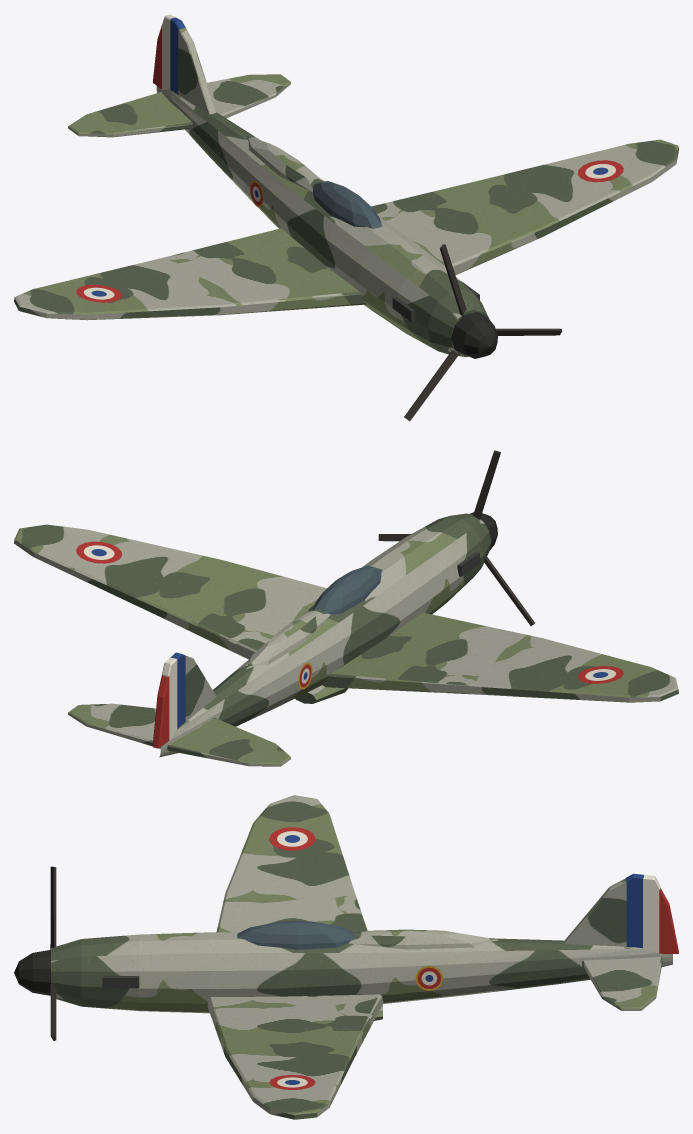
Rendered from fighter.glb.
The picture shows the model from 3 angles, top to bottom: view 1: azimuth 30°, elevation 25°; view 2: azimuth 150°, elevation 25°; view 3: azimuth 270°, elevation 25°; orthographic projection.
Parts seen in each view (by area): view 1: fuselage_coque, aile_droite, aile_gauche, stabilisateur_droit, stabilisateur_gauche, verriere, derive, prop_cone, dos, cocarde_aile_gauche, gouvernail_bleu, prop_pale_2_lame (+2 smaller); view 2: aile_droite, fuselage_coque, aile_gauche, stabilisateur_droit, stabilisateur_gauche, verriere, dos, derive, gouvernail_rouge, cocarde_aile_gauche, gouvernail_blanc, gouvernail_bleu (+4 smaller); view 3: fuselage_coque, aile_gauche, aile_droite, stabilisateur_gauche, verriere, derive, dos, prop_cone, gouvernail_blanc, gouvernail_bleu, gouvernail_rouge, cocarde_aile_droite (+4 smaller).
Part boxes in pixels (left/top/right/bottom): fuselage_coque: left=156, top=86, right=489, bottom=357; aile_droite: left=14, top=228, right=365, bottom=320; aile_gauche: left=371, top=139, right=678, bottom=274; stabilisateur_droit: left=68, top=92, right=192, bottom=137; stabilisateur_gauche: left=207, top=74, right=290, bottom=118; verriere: left=313, top=181, right=382, bottom=228; derive: left=178, top=27, right=216, bottom=114; prop_cone: left=451, top=312, right=497, bottom=358; dos: left=246, top=136, right=323, bottom=192; cocarde_aile_gauche: left=577, top=160, right=623, bottom=182; gouvernail_bleu: left=170, top=17, right=185, bottom=94; prop_pale_2_lame: left=404, top=350, right=459, bottom=421; aile_droite: left=323, top=612, right=678, bottom=702; fuselage_coque: left=159, top=513, right=491, bottom=757; aile_gauche: left=14, top=524, right=326, bottom=659; stabilisateur_droit: left=167, top=718, right=290, bottom=766; stabilisateur_gauche: left=68, top=703, right=160, bottom=748; verriere: left=313, top=565, right=382, bottom=614; dos: left=246, top=608, right=330, bottom=669; derive: left=185, top=655, right=216, bottom=721; gouvernail_rouge: left=152, top=675, right=169, bottom=748; cocarde_aile_gauche: left=76, top=541, right=121, bottom=563; gouvernail_blanc: left=162, top=657, right=177, bottom=740; gouvernail_bleu: left=170, top=652, right=185, bottom=728; fuselage_coque: left=51, top=932, right=672, bottom=1013; aile_gauche: left=207, top=994, right=383, bottom=1119; aile_droite: left=216, top=795, right=367, bottom=932; stabilisateur_gauche: left=582, top=957, right=662, bottom=1010; verriere: left=237, top=921, right=355, bottom=949; derive: left=564, top=878, right=626, bottom=946; dos: left=349, top=929, right=498, bottom=949; prop_cone: left=14, top=950, right=50, bottom=995; gouvernail_blanc: left=643, top=875, right=660, bottom=953; gouvernail_bleu: left=625, top=873, right=643, bottom=948; gouvernail_rouge: left=659, top=888, right=678, bottom=953; cocarde_aile_droite: left=269, top=827, right=315, bottom=850.
Bounding box in the file's own units: 3.27 × 0.8136 × 2.87.
Materials: 10 (3 with a texture image).
